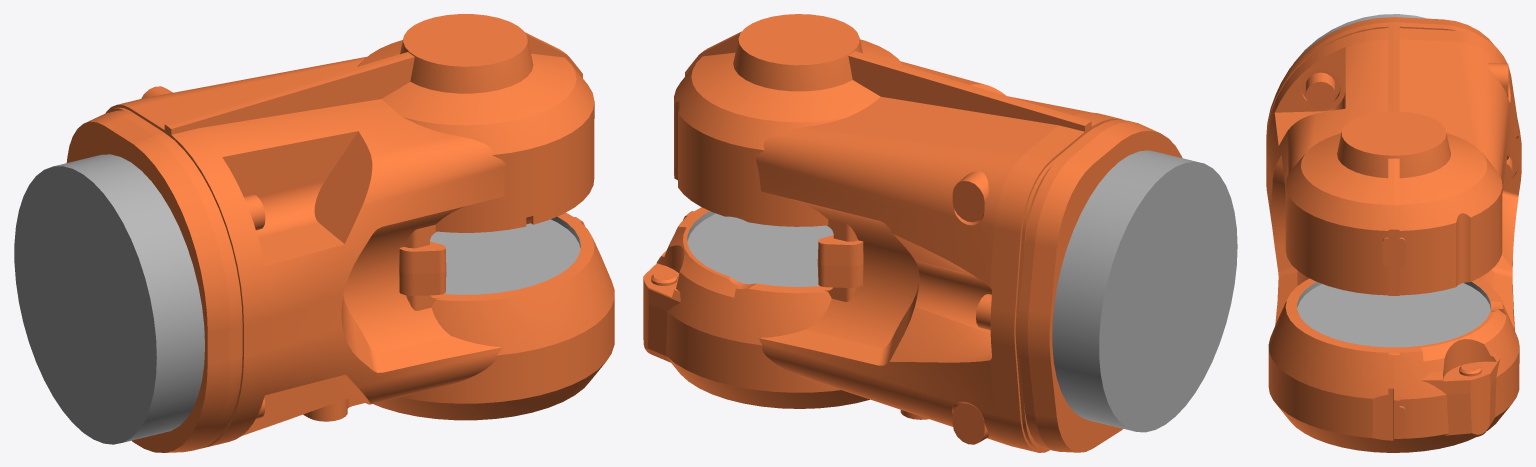
Rendered from irb140_link_4.obj.
3 renders of one model, left to right at view 1: azimuth 30°, elevation 25°; view 2: azimuth 150°, elevation 25°; view 3: azimuth 270°, elevation 25°, orthographic. The views are drawn at different scales.
Visible parts, largest first — view 1: Solid1; view 2: Solid1; view 3: Solid1.
Boxes of the visible parts, bbox=[...] form: Solid1: bbox=[14, 14, 614, 452]; Solid1: bbox=[643, 14, 1237, 452]; Solid1: bbox=[1266, 14, 1521, 452].
Bounding box in the file's own units: 218 × 134 × 112.
